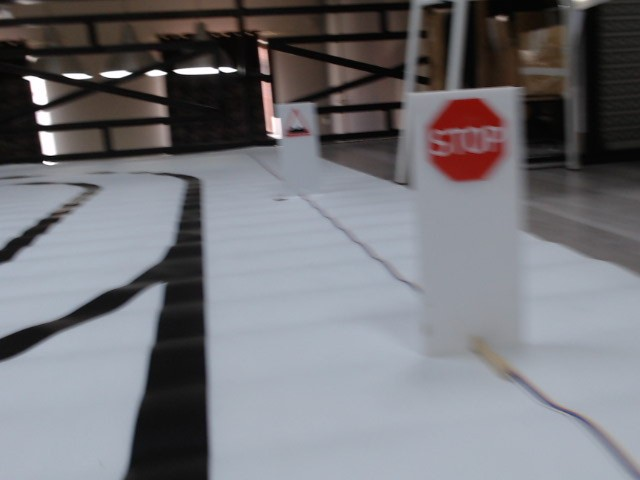Nerov: (280, 108, 312, 138)
Stop: (424, 100, 506, 181)
